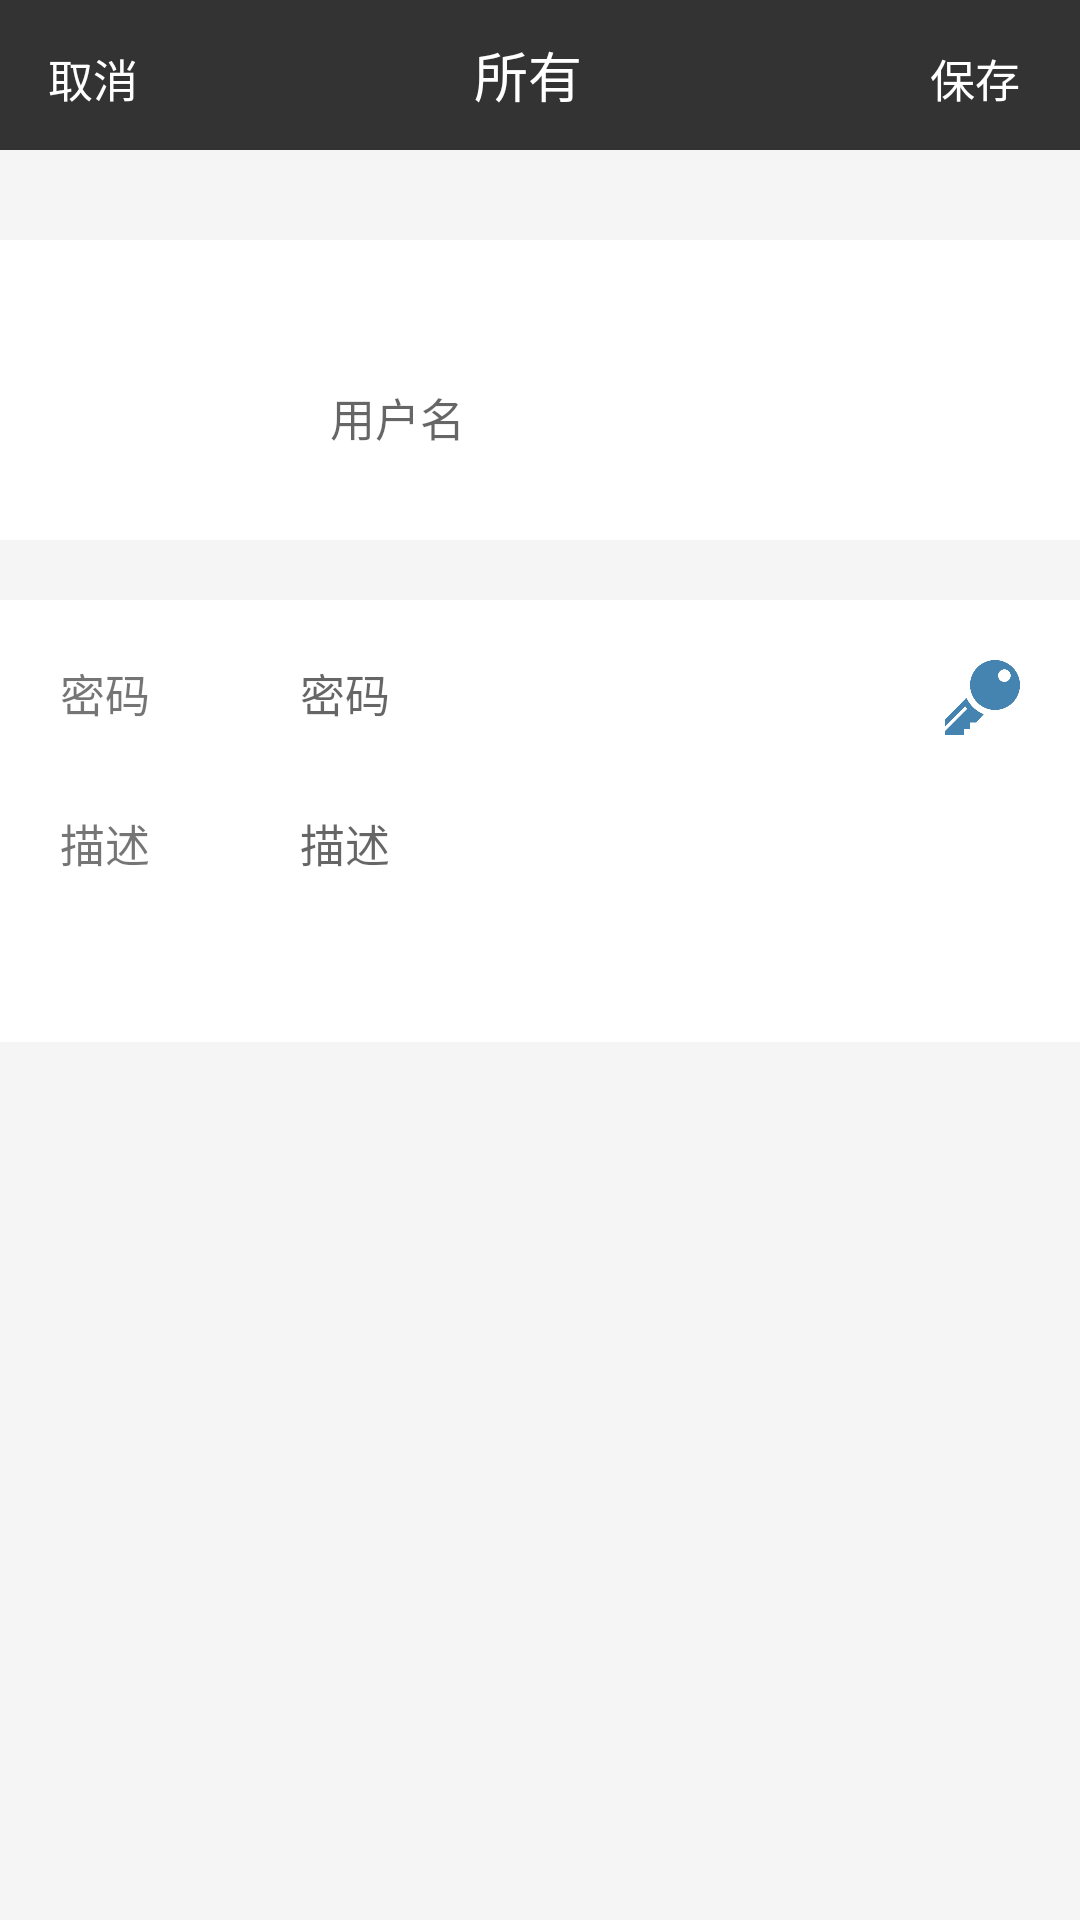

Named icons in this screenshot (1080 × 1920) and their bounding boxes, (x1=x1, y1=y1, x2=x2, y2=y2):
key: (x1=945, y1=660, x2=1020, y2=735)
